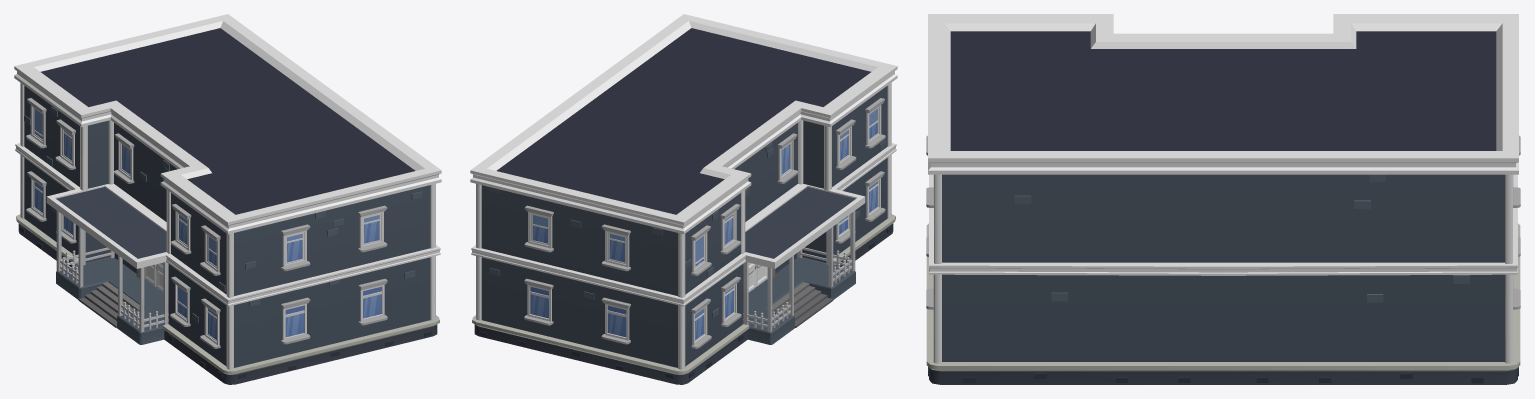
File: Building_5_1_N.fbx
3 renders of one model, left to right at view 1: azimuth 30°, elevation 25°; view 2: azimuth 150°, elevation 25°; view 3: azimuth 270°, elevation 25°, orthographic. The views are drawn at different scales.
Parts seen in each view (by area): view 1: Building_5_1_N; view 2: Building_5_1_N; view 3: Building_5_1_N.
Boxes of the visible parts, left/top/right/bottom form: Building_5_1_N: left=14, top=14, right=441, bottom=384; Building_5_1_N: left=470, top=14, right=897, bottom=384; Building_5_1_N: left=926, top=14, right=1520, bottom=384.
Size of the model in its own units: 1251 by 804 by 1908.
